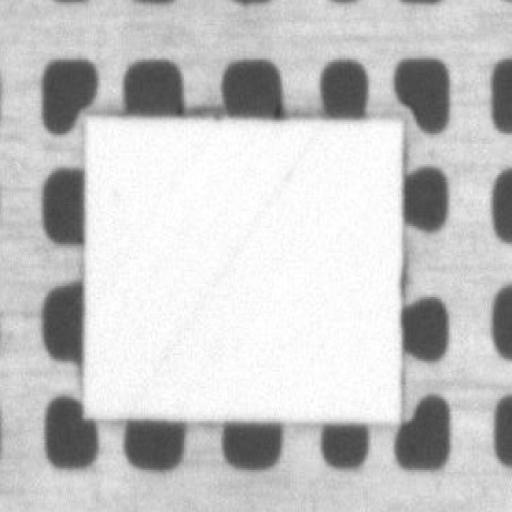DIE_CRACK: (135, 124, 317, 403)
